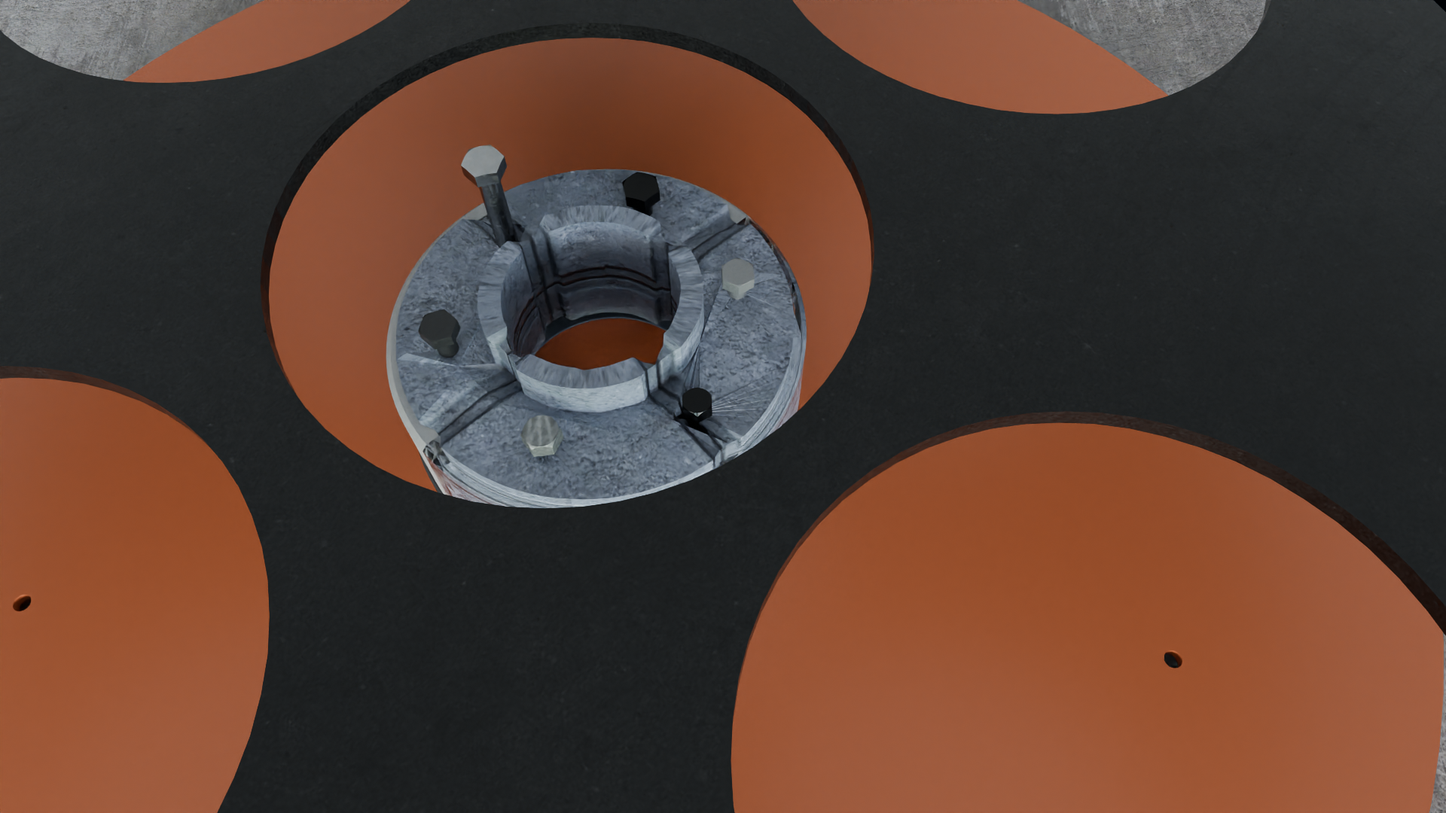bolt: (461, 145, 504, 178), (520, 416, 562, 449), (418, 309, 457, 343), (622, 172, 660, 202), (721, 258, 755, 288), (682, 388, 712, 417)
